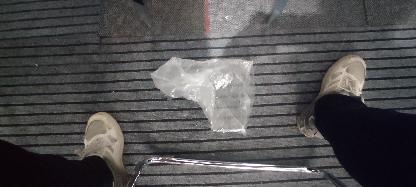Plastic Bag: (151, 57, 255, 135)
